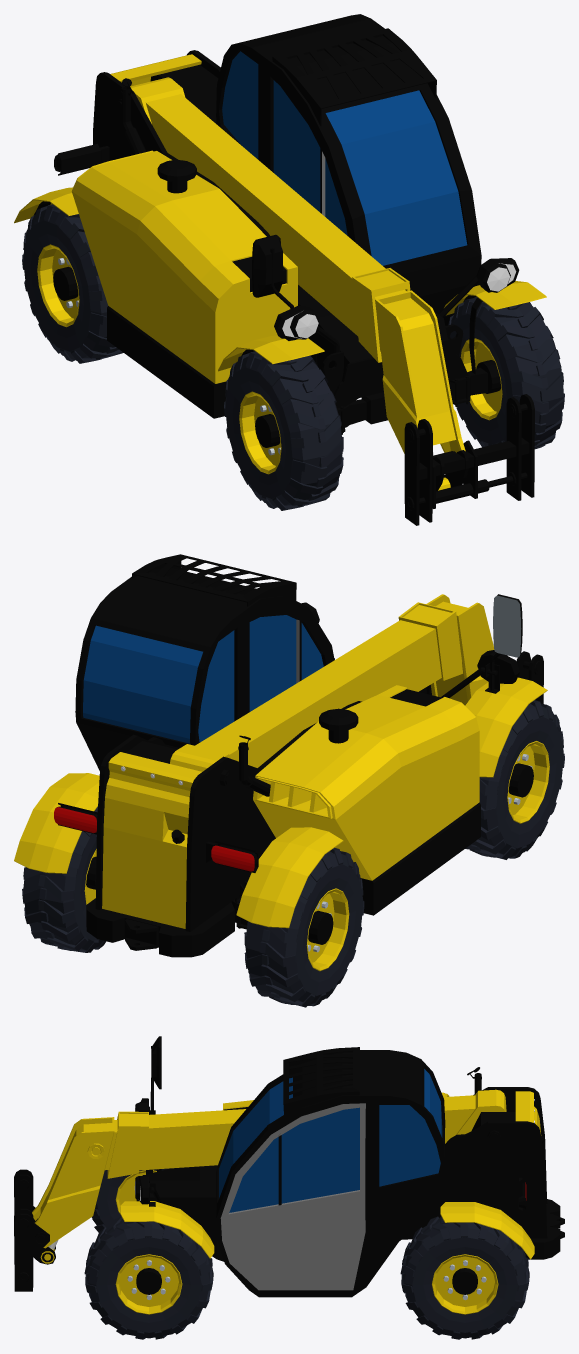
The model's file is TelehandlerForklift.fbx.
The picture shows the model from 3 angles, top to bottom: view 1: azimuth 30°, elevation 25°; view 2: azimuth 150°, elevation 25°; view 3: azimuth 270°, elevation 25°; orthographic projection. The views are drawn at different scales.
Visible parts, largest first — view 1: wheelTF_BR.001, Arrow1, wheelTF_FR, wheelTF_FL, wheelTF_BR, Arrow2, Detail1; view 2: wheelTF_BR.001, Arrow1, wheelTF_BR, wheelTF_FR, wheelTF_BL, Arrow2, Detail1; view 3: wheelTF_BR.001, wheelTF_BL, wheelTF_FL, Arrow1, Arrow2, Detail1, wheelTF_FR.
Part boxes in pixels (left/top/right/bottom): wheelTF_BR.001: left=14, top=14, right=546, bottom=434; Arrow1: left=130, top=77, right=410, bottom=362; wheelTF_FR: left=224, top=351, right=343, bottom=510; wheelTF_FL: left=448, top=296, right=564, bottom=449; wheelTF_BR: left=22, top=204, right=123, bottom=363; Arrow2: left=375, top=289, right=465, bottom=453; Detail1: left=404, top=394, right=534, bottom=525; wheelTF_BR.001: left=14, top=554, right=547, bottom=957; Arrow1: left=170, top=602, right=462, bottom=771; wheelTF_BR: left=244, top=847, right=364, bottom=1007; wheelTF_FR: left=465, top=700, right=564, bottom=859; wheelTF_BL: left=22, top=807, right=106, bottom=952; Arrow2: left=426, top=594, right=494, bottom=705; Detail1: left=419, top=651, right=543, bottom=703; wheelTF_BR.001: left=120, top=1036, right=564, bottom=1297; wheelTF_BL: left=400, top=1216, right=529, bottom=1339; wheelTF_FL: left=84, top=1216, right=213, bottom=1339; Arrow1: left=107, top=1089, right=506, bottom=1178; Arrow2: left=32, top=1117, right=117, bottom=1248; Detail1: left=14, top=1169, right=55, bottom=1291; wheelTF_FR: left=91, top=1168, right=169, bottom=1232.
Size of the model in its own units: 251 by 277 by 556.
